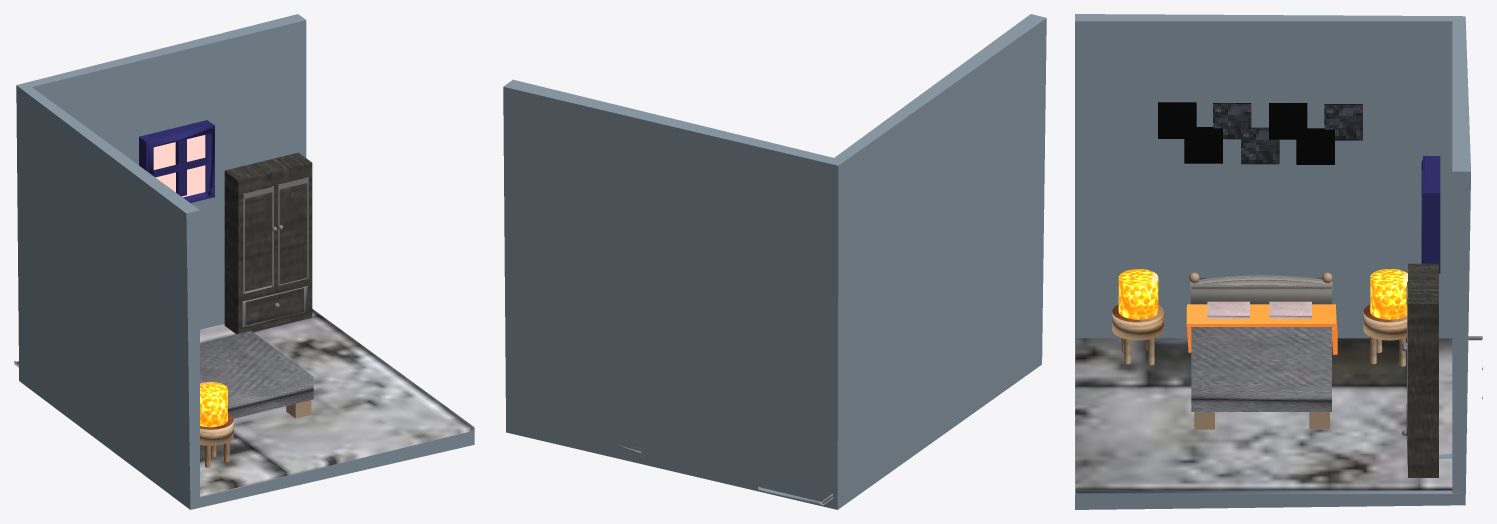
File: myhomeFinalthisTwo.glb
3 renders of one model, left to right at view 1: azimuth 30°, elevation 25°; view 2: azimuth 150°, elevation 25°; view 3: azimuth 270°, elevation 25°, orthographic. The views are drawn at different scales.
Visible parts, largest first — view 1: Cube.028, Cube.001, Cube.016, Cube.002, Cube.027, Cube.014, Cylinder.005, Cube.015, Cube.013, Cube.017, Cylinder, Cube.018; view 2: Cube.028; view 3: Cube.028, Cube.001, Cube.002, Cube.016, Cube.007, Cube.009, Cube.013, Cylinder.005, Cylinder.011, Cube.020, Cube.025, Cube.024 (+9 smaller).
Boxes of the visible parts, <box> form: Cube.028: <box>16,14,474,509</box>; Cube.001: <box>14,309,474,496</box>; Cube.016: <box>224,152,312,334</box>; Cube.002: <box>200,331,313,418</box>; Cube.027: <box>153,135,205,197</box>; Cube.014: <box>139,124,214,201</box>; Cylinder.005: <box>200,382,227,427</box>; Cube.015: <box>153,139,207,196</box>; Cube.013: <box>139,120,214,202</box>; Cube.017: <box>243,186,273,293</box>; Cylinder: <box>200,413,233,445</box>; Cube.018: <box>278,177,308,285</box>; Cube.028: <box>503,14,1046,509</box>; Cube.028: <box>1075,14,1470,509</box>; Cube.001: <box>1075,336,1482,494</box>; Cube.002: <box>1191,327,1331,411</box>; Cube.016: <box>1408,263,1438,477</box>; Cube.007: <box>1191,278,1331,304</box>; Cube.009: <box>1187,304,1335,327</box>; Cube.013: <box>1423,156,1440,273</box>; Cylinder.005: <box>1118,269,1158,319</box>; Cylinder.011: <box>1370,269,1407,319</box>; Cube.020: <box>1158,102,1196,138</box>; Cube.025: <box>1296,128,1334,164</box>; Cube.024: <box>1269,103,1307,139</box>.
Size of the model in its own units: 7.81 by 7.8 by 8.52.
46 materials, 26 textured.
